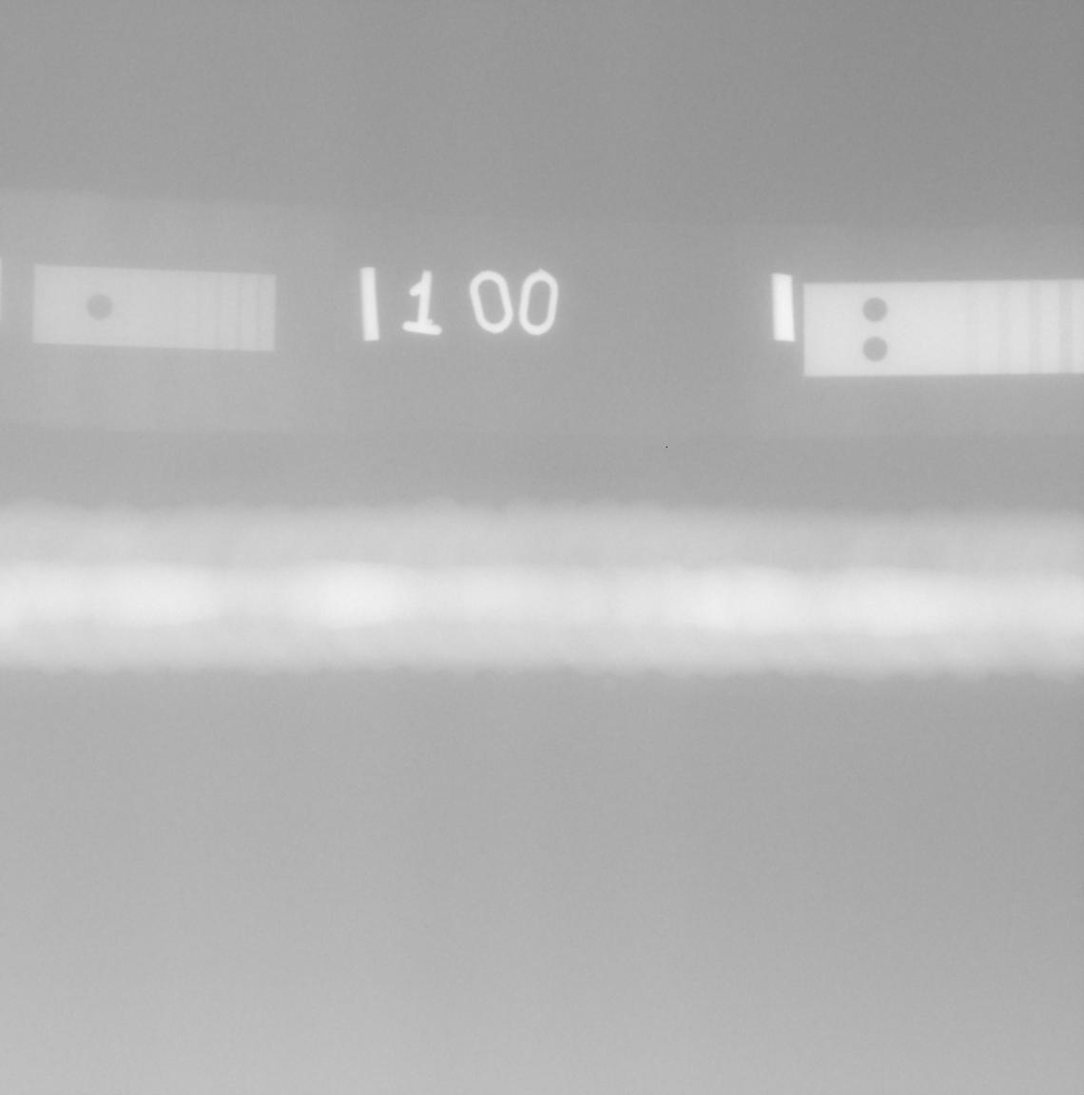Reference Standard 1: (33, 264, 276, 353)
